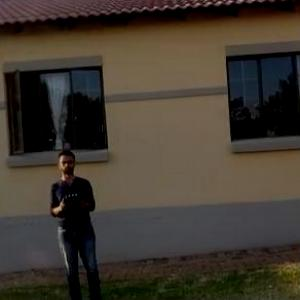follow: (45, 138, 111, 299)
